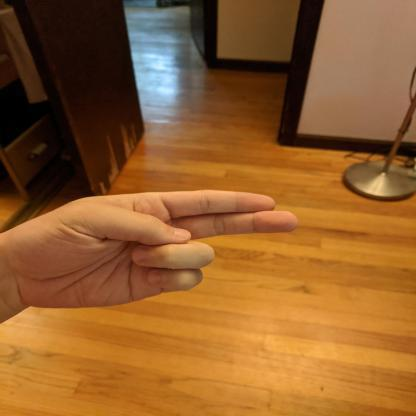H: (19, 190, 298, 313)
